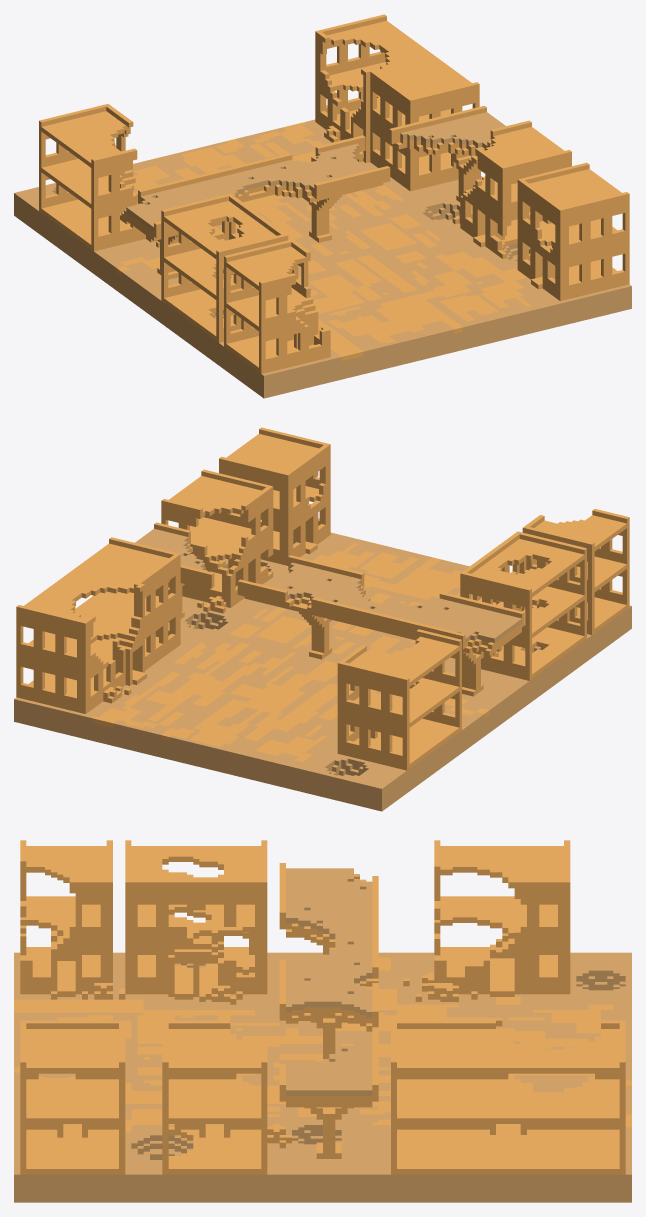
Rendered from map05.obj.
3 renders of one model, top to bottom at view 1: azimuth 30°, elevation 25°; view 2: azimuth 150°, elevation 25°; view 3: azimuth 270°, elevation 25°, orthographic. The views are drawn at different scales.
Size of the model in its own units: 8.5 by 2.5 by 10.
Materials: 1 (1 with a texture image).
